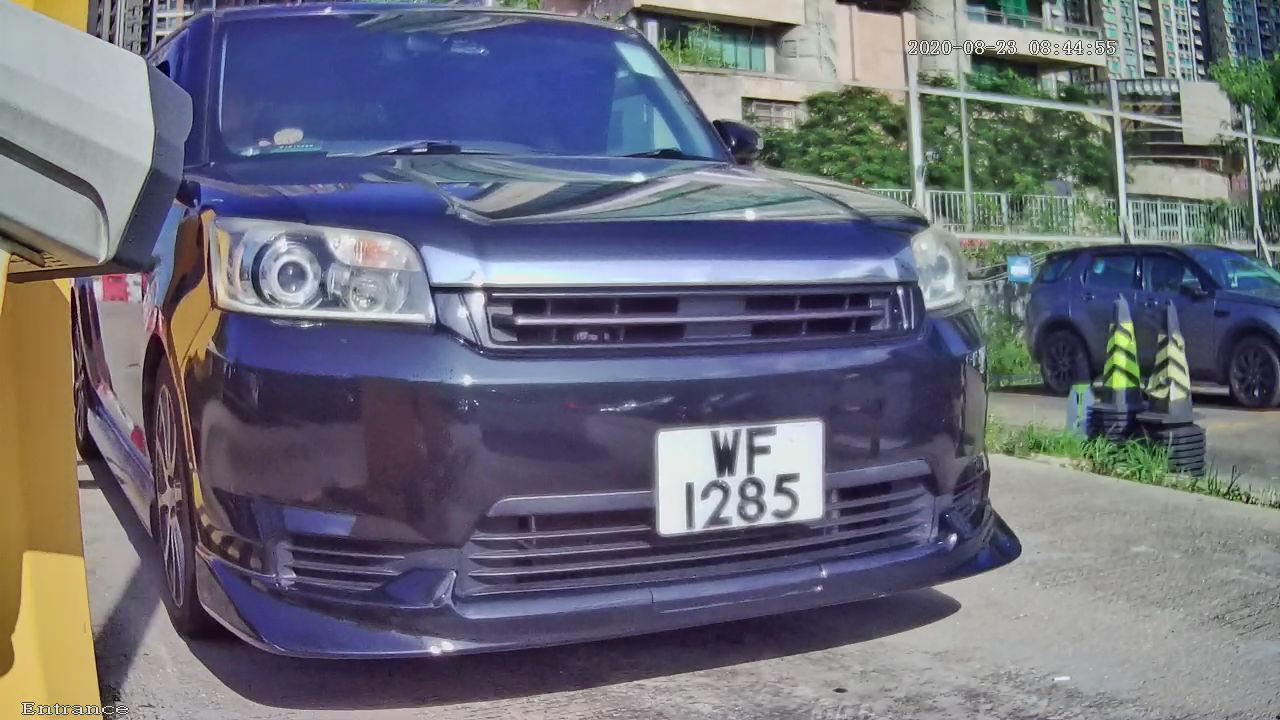Car: (23, 1, 1098, 708)
License Plate: (641, 405, 841, 553)
